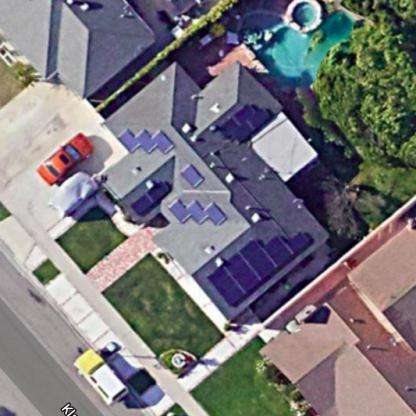car: (59, 333, 133, 404), (32, 133, 93, 192)
solar_panel: (195, 229, 334, 311), (133, 166, 233, 232), (206, 97, 276, 142), (103, 114, 177, 156)
swimming_pool: (219, 1, 399, 99)
